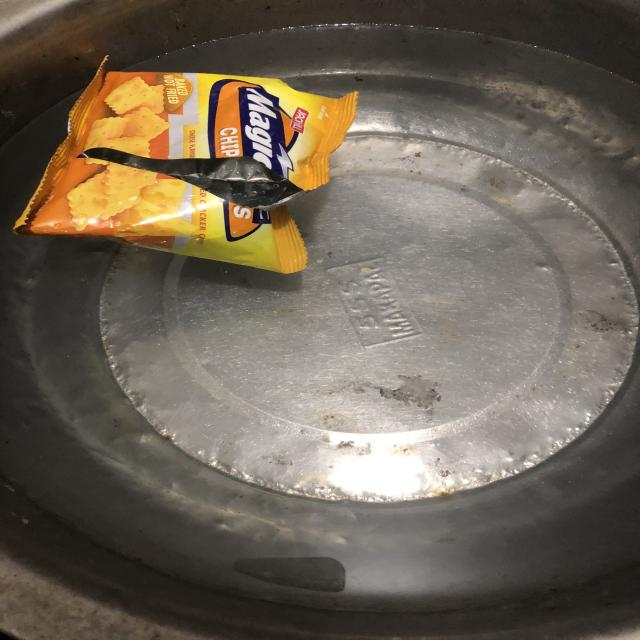Plastic Wrapper: (1, 48, 363, 283)
